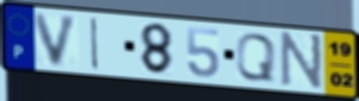5: (185, 25, 221, 79)
8: (138, 21, 176, 77)
I: (89, 16, 100, 72)
N: (279, 30, 325, 93)
Q: (234, 32, 278, 84)
V: (31, 11, 81, 69)
